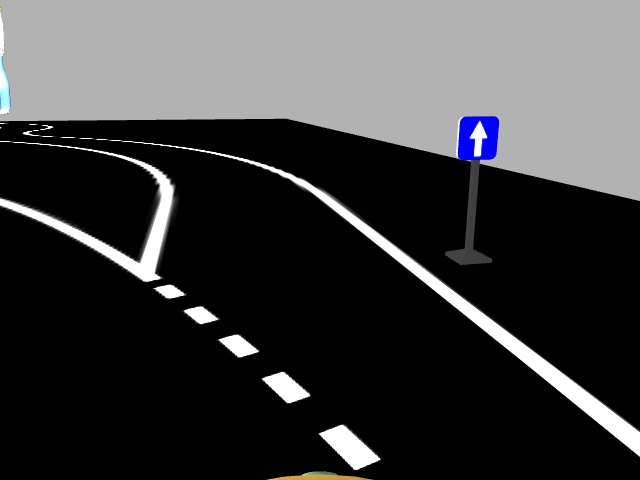OneWay: (457, 112, 500, 161)
